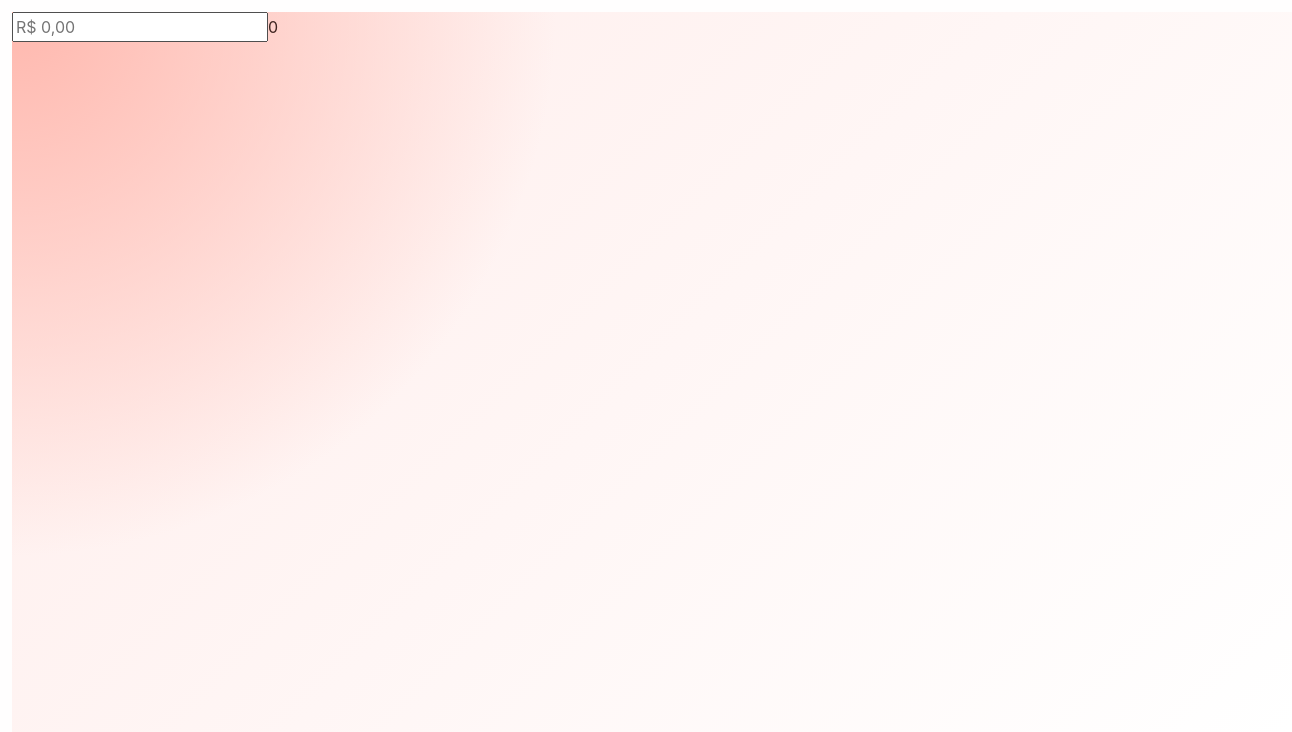
it: CurrencyInput BRL mask › formats typed digits into BRL currency (cents from right)
Type "150050" into the field named "Valor teste" at (140, 27), box left=12, top=12, right=268, bottom=42
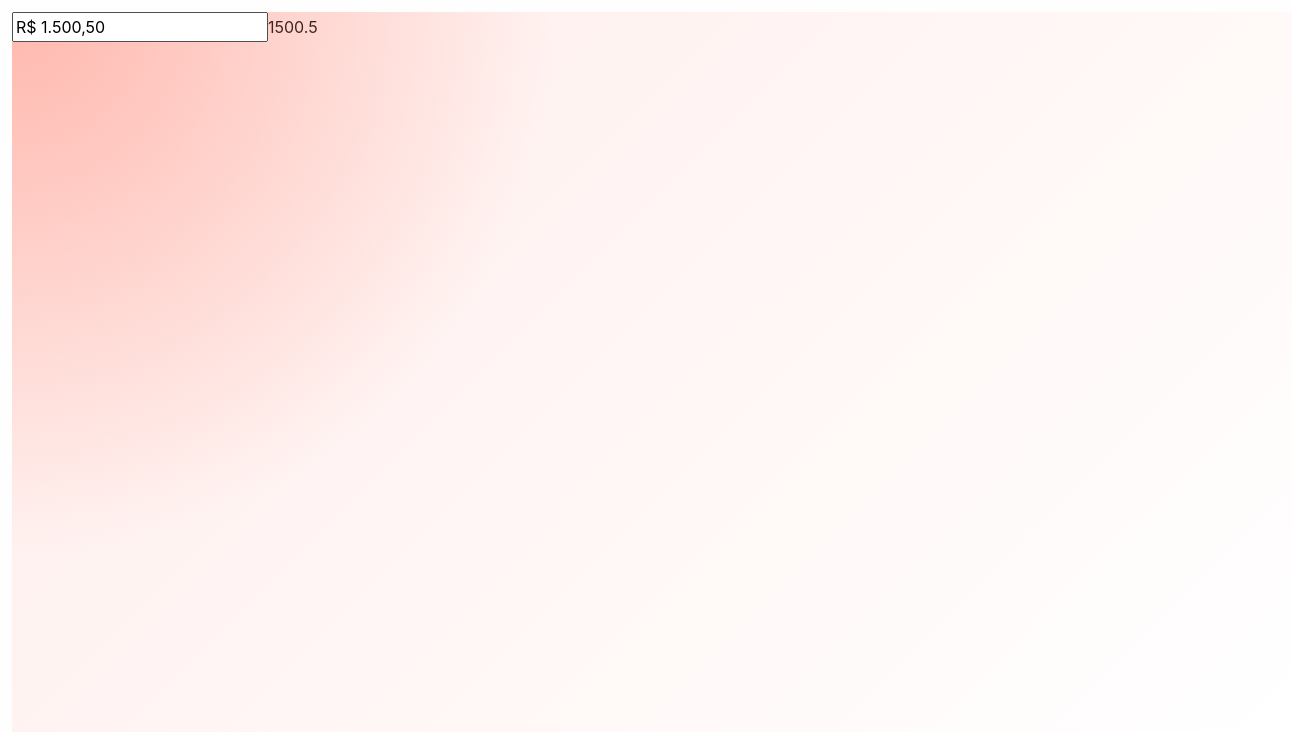
Result: the text with test id "numeric" reads "1500.5" at left=268, top=17, right=318, bottom=37
Clear the field named "Valor teste" at (140, 27), box left=12, top=12, right=268, bottom=42
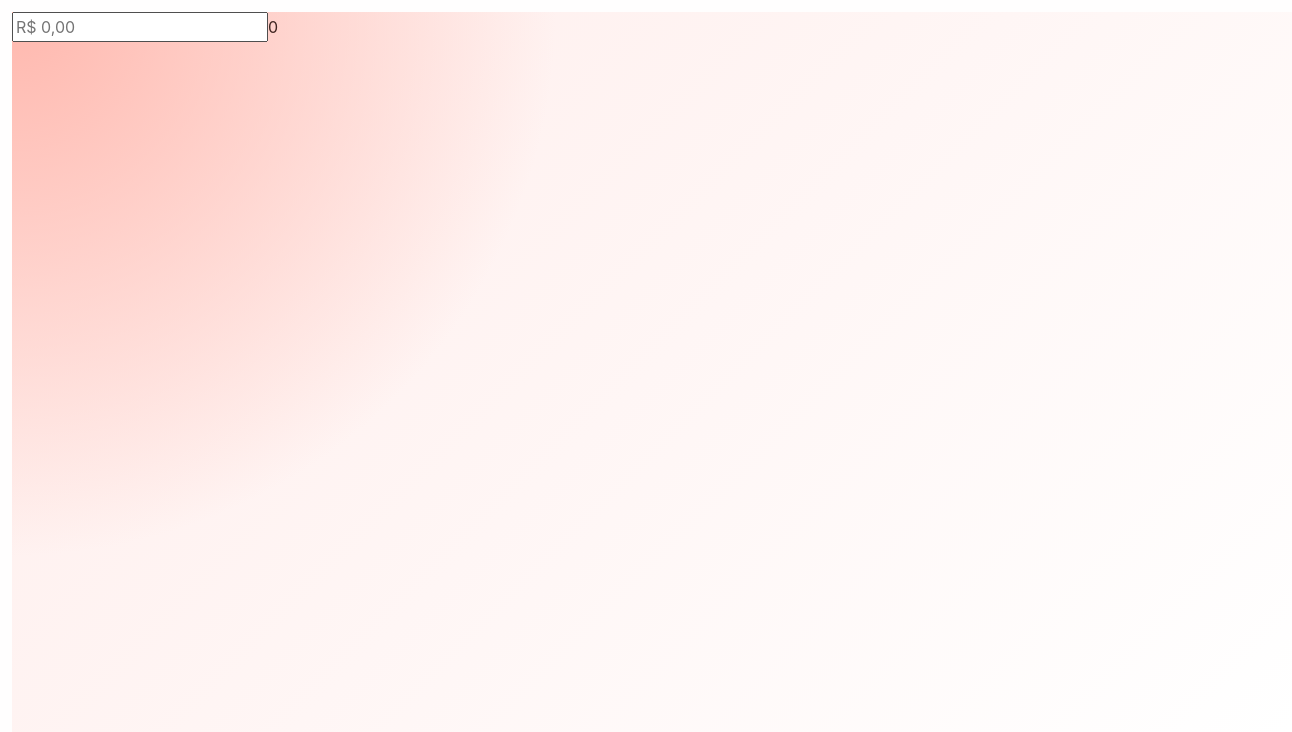
Result: the text with test id "numeric" reads "0" at left=268, top=17, right=278, bottom=37
